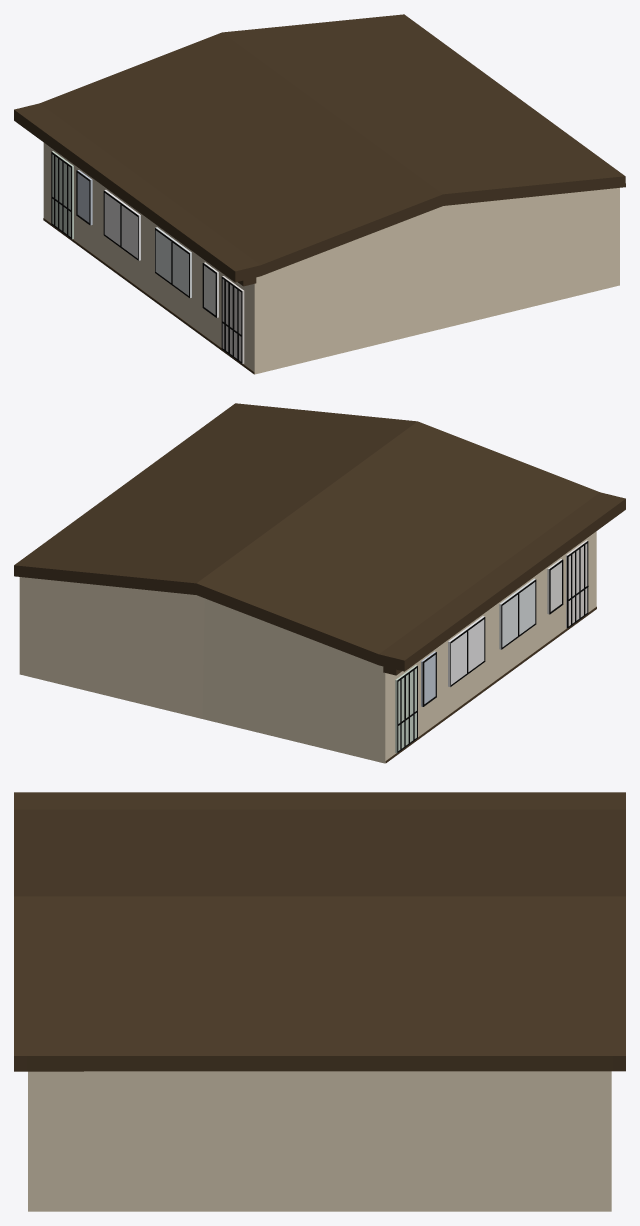
Rendered from cChineseB.glb.
The picture shows the model from 3 angles, top to bottom: view 1: azimuth 30°, elevation 25°; view 2: azimuth 150°, elevation 25°; view 3: azimuth 270°, elevation 25°; orthographic projection. The views are drawn at different scales.
Parts seen in each view (by area): view 1: ChineseB; view 2: ChineseB; view 3: ChineseB.
Part boxes in pixels (bbox=[...]): ChineseB: bbox=[14, 14, 625, 374]; ChineseB: bbox=[14, 403, 625, 763]; ChineseB: bbox=[14, 792, 625, 1211].
Size of the model in its own units: 2.14 by 0.7277 by 2.1.
